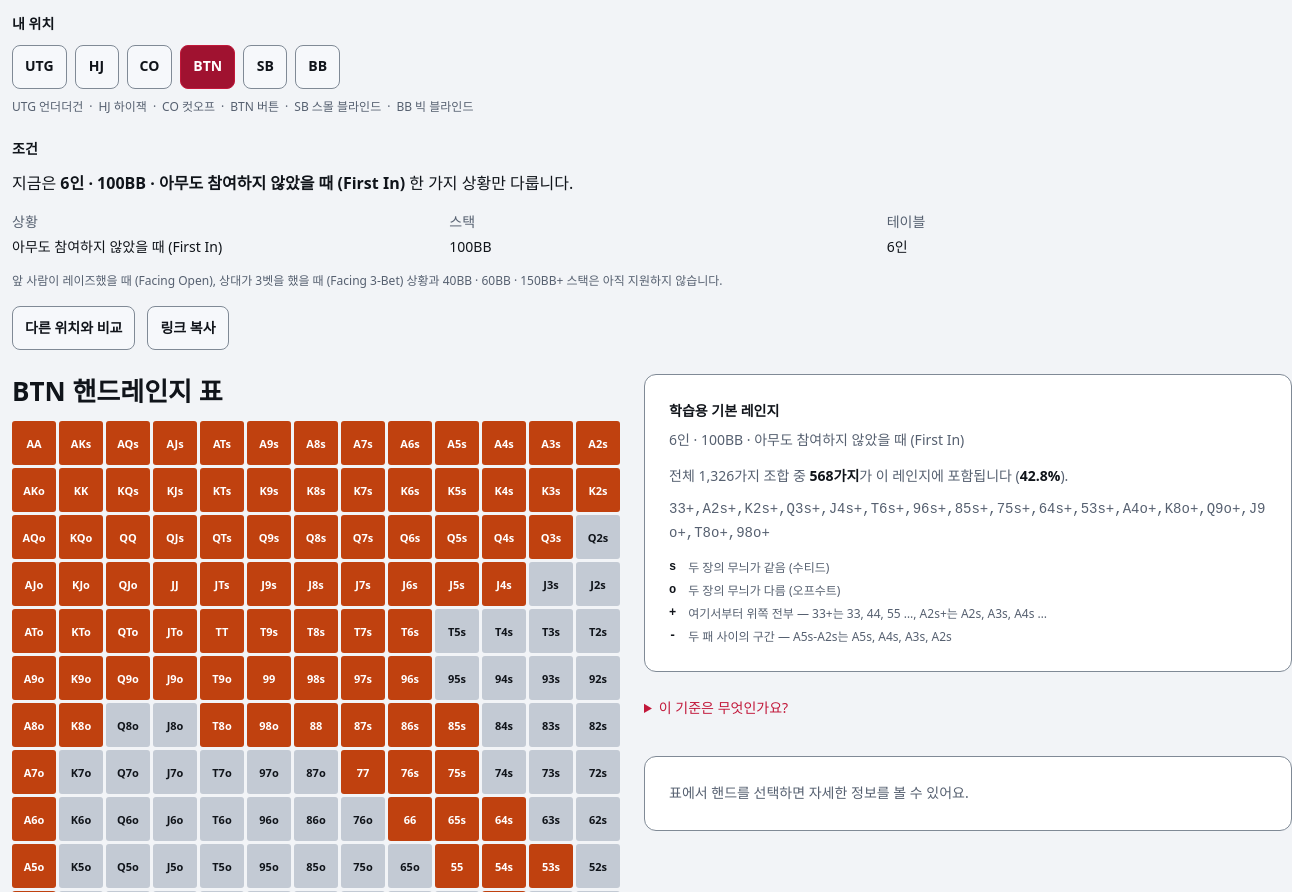
Scenario: RangeExplorer › clicking a hand cell shows its detail in the selected-hand panel
The width and height of the screenshot is (1292, 892).
Expected: the button with aria-label "버튼(BTN) 자리" is shown, [180, 44, 235, 88]
Click the button "AKs": [81, 444] box [59, 422, 103, 466]
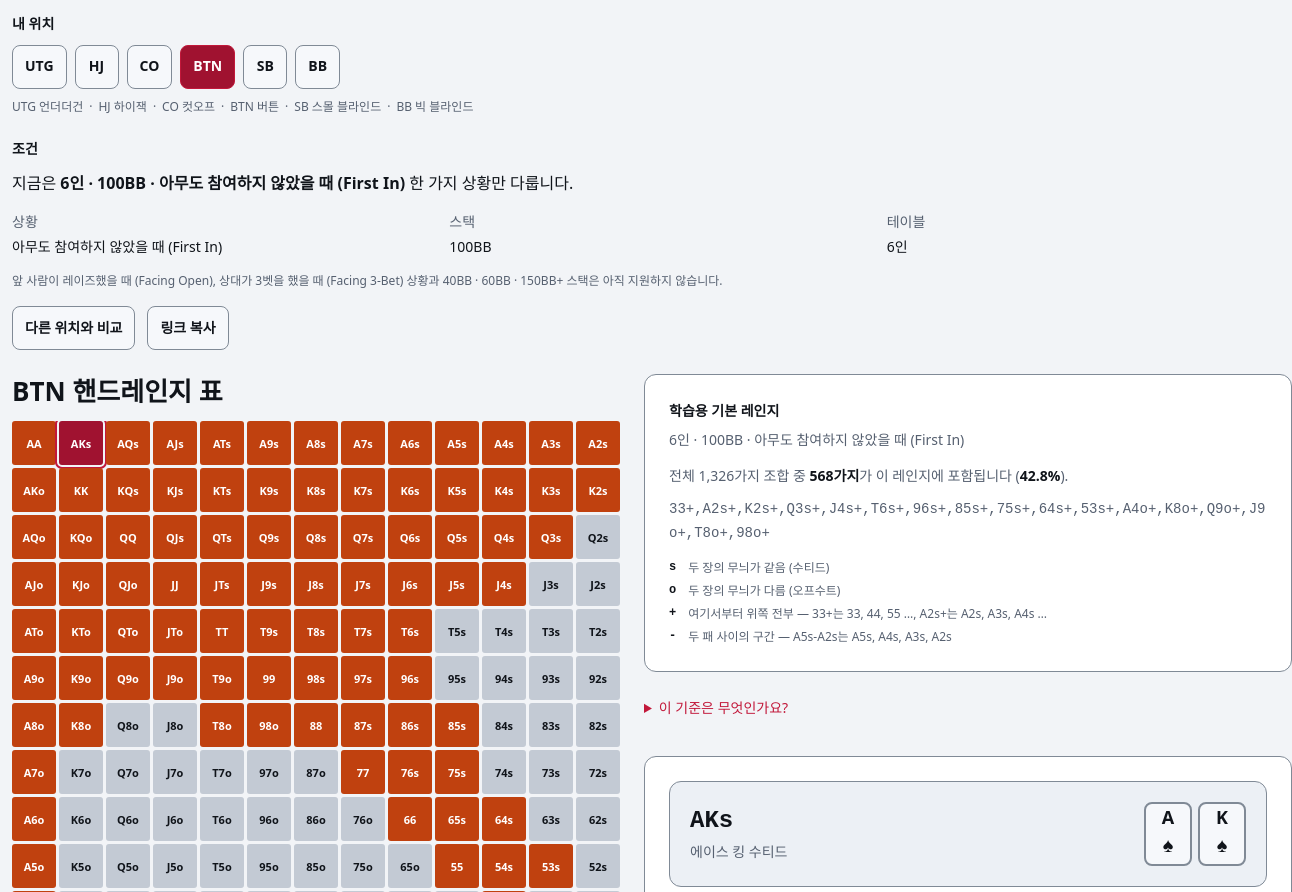
Expected: the heading "BTN 핸드레인지 표" is shown, [12, 373, 223, 409]
Now the text "AKs" is shown, box [690, 807, 733, 834]
